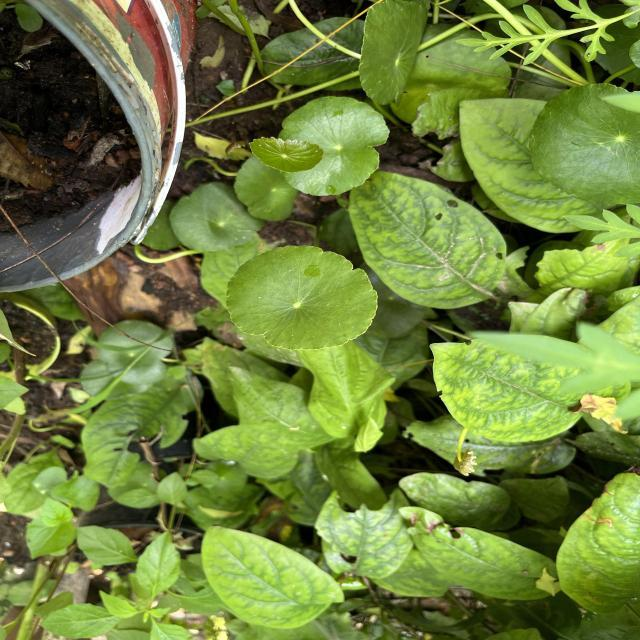Bacopa monnieri: (224, 243, 380, 352), (527, 81, 640, 208), (276, 94, 392, 198), (246, 134, 326, 174)
